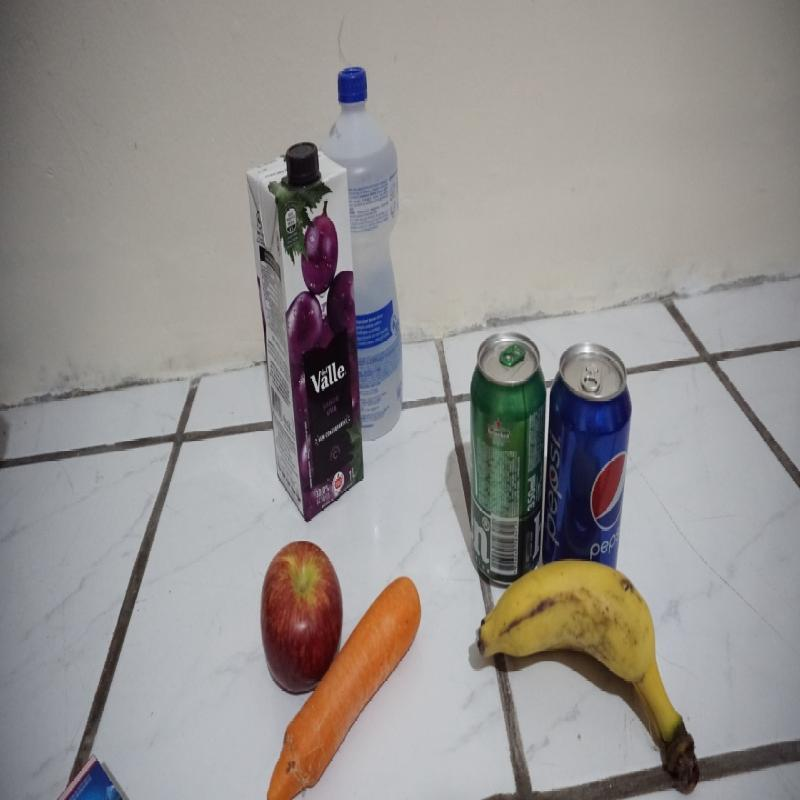Alcohol Bottle: (325, 66, 400, 440)
Apple: (260, 538, 344, 699)
Banana: (478, 558, 700, 794)
Beer can: (469, 330, 546, 588)
Carrot: (266, 575, 421, 800)
Gelatine: (52, 753, 129, 800)
Soda can: (547, 342, 631, 588)
